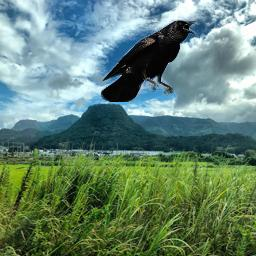Crow: (101, 19, 197, 102)
